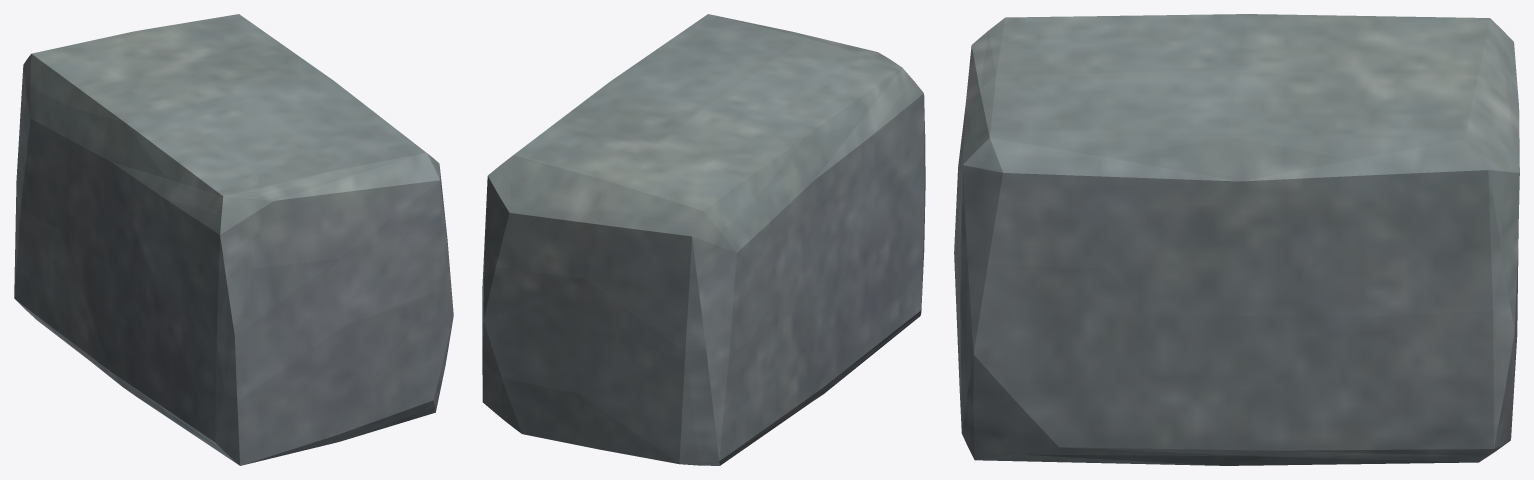
The model's file is rocks_008.fbx.
3 renders of one model, left to right at view 1: azimuth 30°, elevation 25°; view 2: azimuth 150°, elevation 25°; view 3: azimuth 270°, elevation 25°, orthographic. The views are drawn at different scales.
Parts seen in each view (by area): view 1: rocks.008; view 2: rocks.008; view 3: rocks.008.
Boxes of the visible parts, <box> form: rocks.008: <box>14,14,453,465</box>; rocks.008: <box>482,14,925,465</box>; rocks.008: <box>954,14,1519,465</box>.
Size of the model in its own units: 69.03 by 75.15 by 114.
